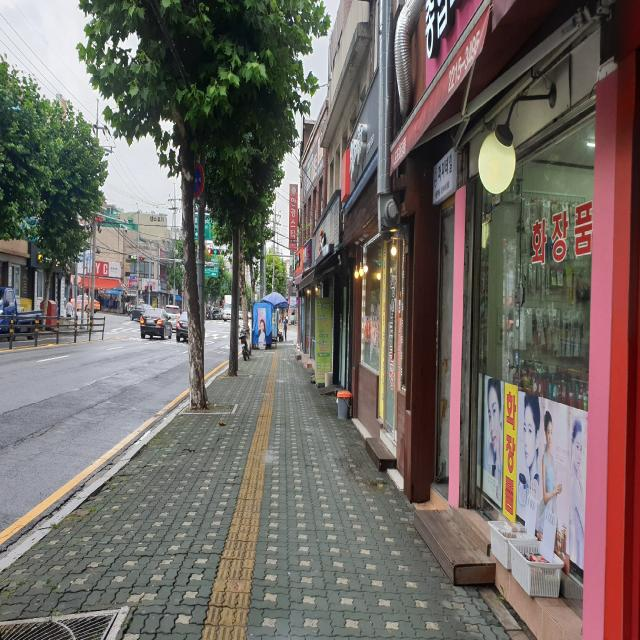motorbike: (239, 322, 250, 361)
